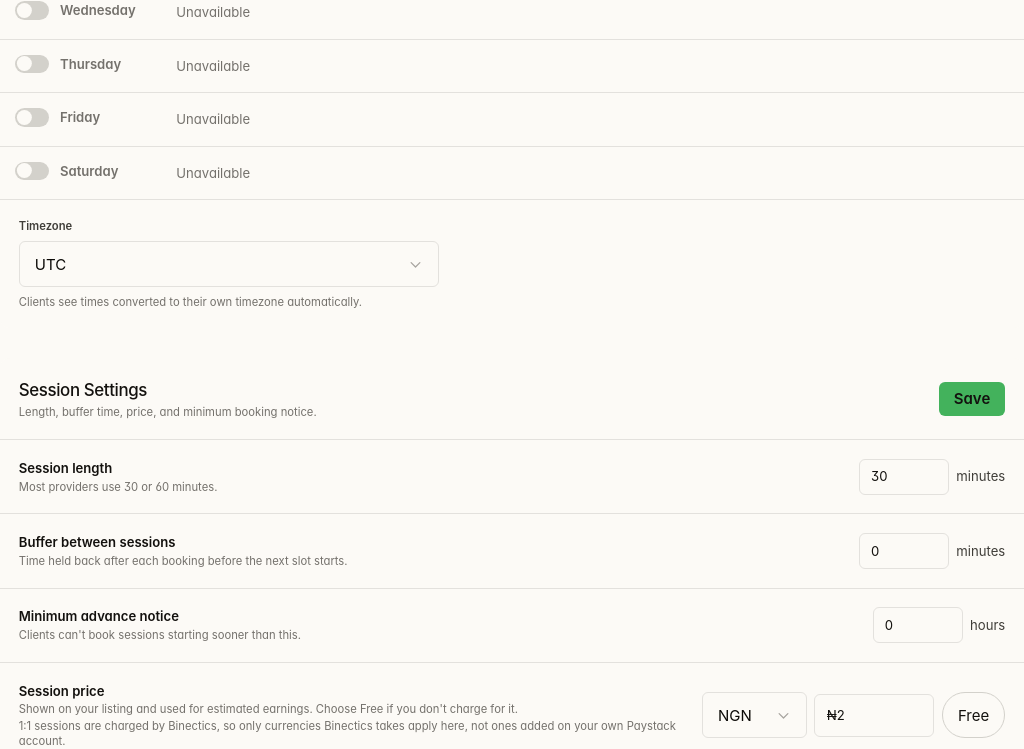
Test: ConsultationAvailabilityManager, session price round-trip › asks for a price or Free when the field is cleared, and saves nothing
(page scrolled)
Clear the field named "Session price": (874, 715) 814,694 -> 934,737
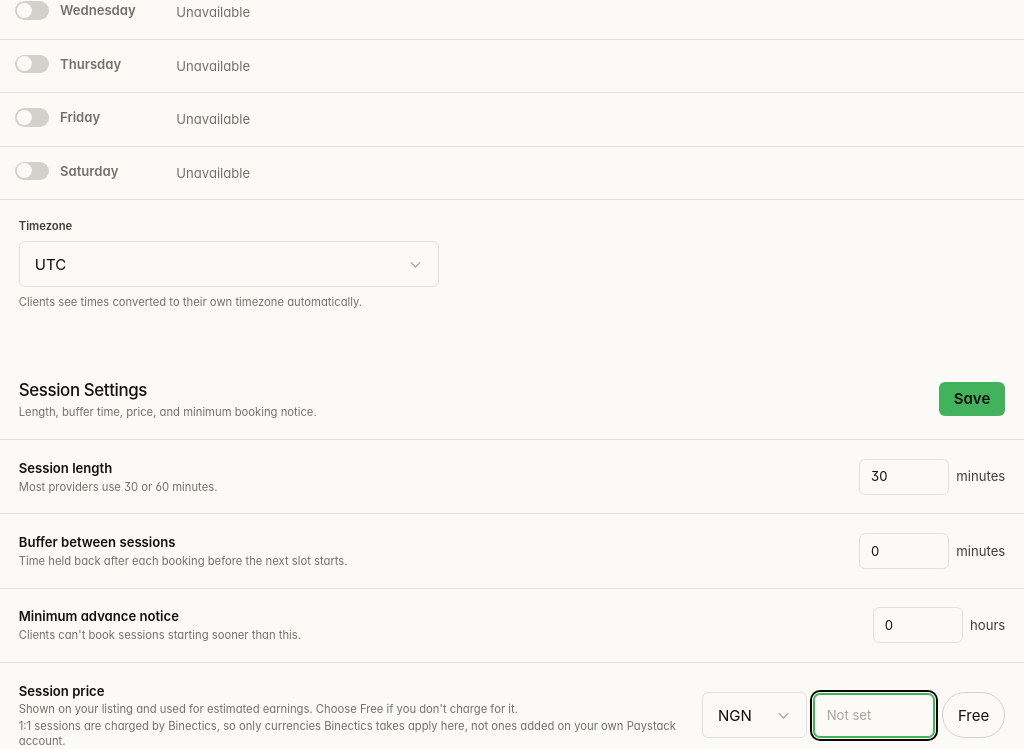
Click the button "Save": click(972, 399) 939,382 -> 1005,416
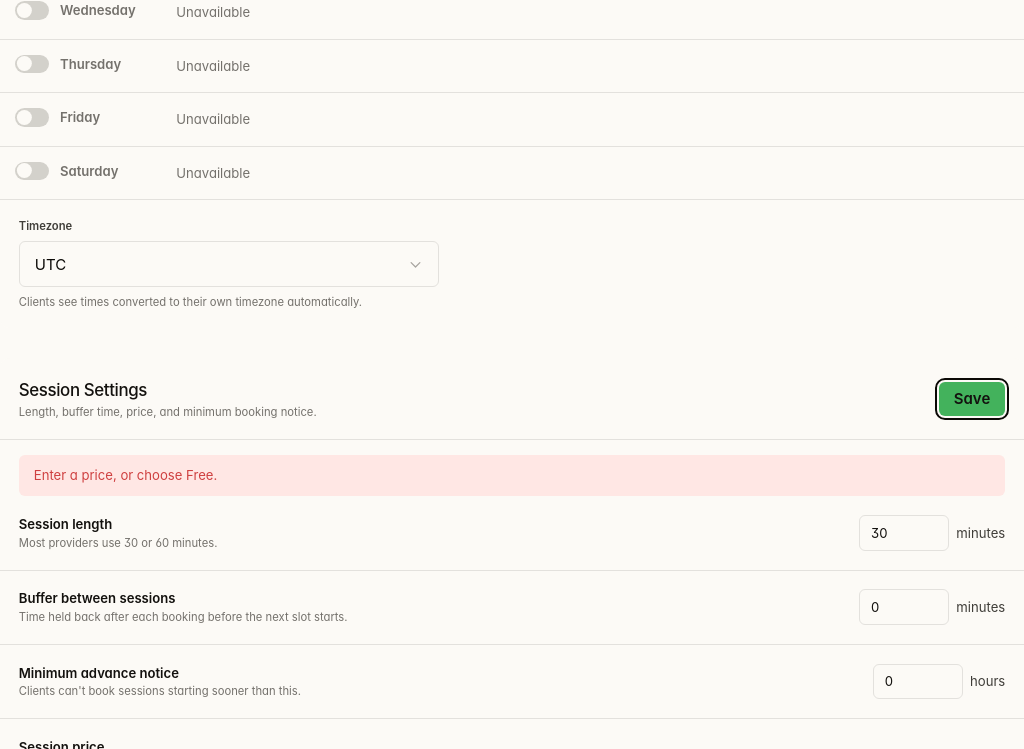
Now the text "Enter a price, or choose Free." is shown, box 19,455 -> 1005,496
